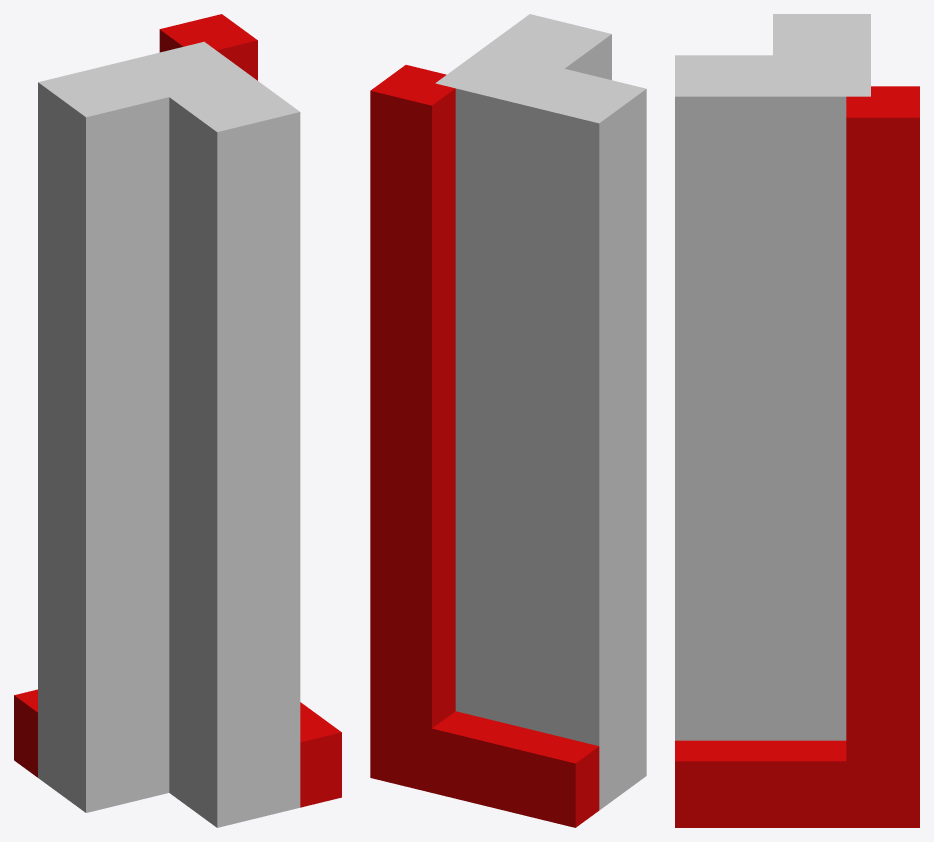
The model's file is SM_WallCorner4mbeams_a.fbx.
3 views of the same model, side by side, from view 1: azimuth 30°, elevation 25°; view 2: azimuth 150°, elevation 25°; view 3: azimuth 270°, elevation 25° (orthographic). The views are drawn at different scales.
Parts seen in each view (by area): view 1: WallCorner4mbeams_a; view 2: WallCorner4mbeams_a; view 3: WallCorner4mbeams_a.
Part boxes in pixels (bbox=[...]): WallCorner4mbeams_a: bbox=[14, 14, 341, 827]; WallCorner4mbeams_a: bbox=[370, 14, 646, 827]; WallCorner4mbeams_a: bbox=[675, 14, 919, 827].
Bounding box in the file's own units: 125 × 400 × 125.
